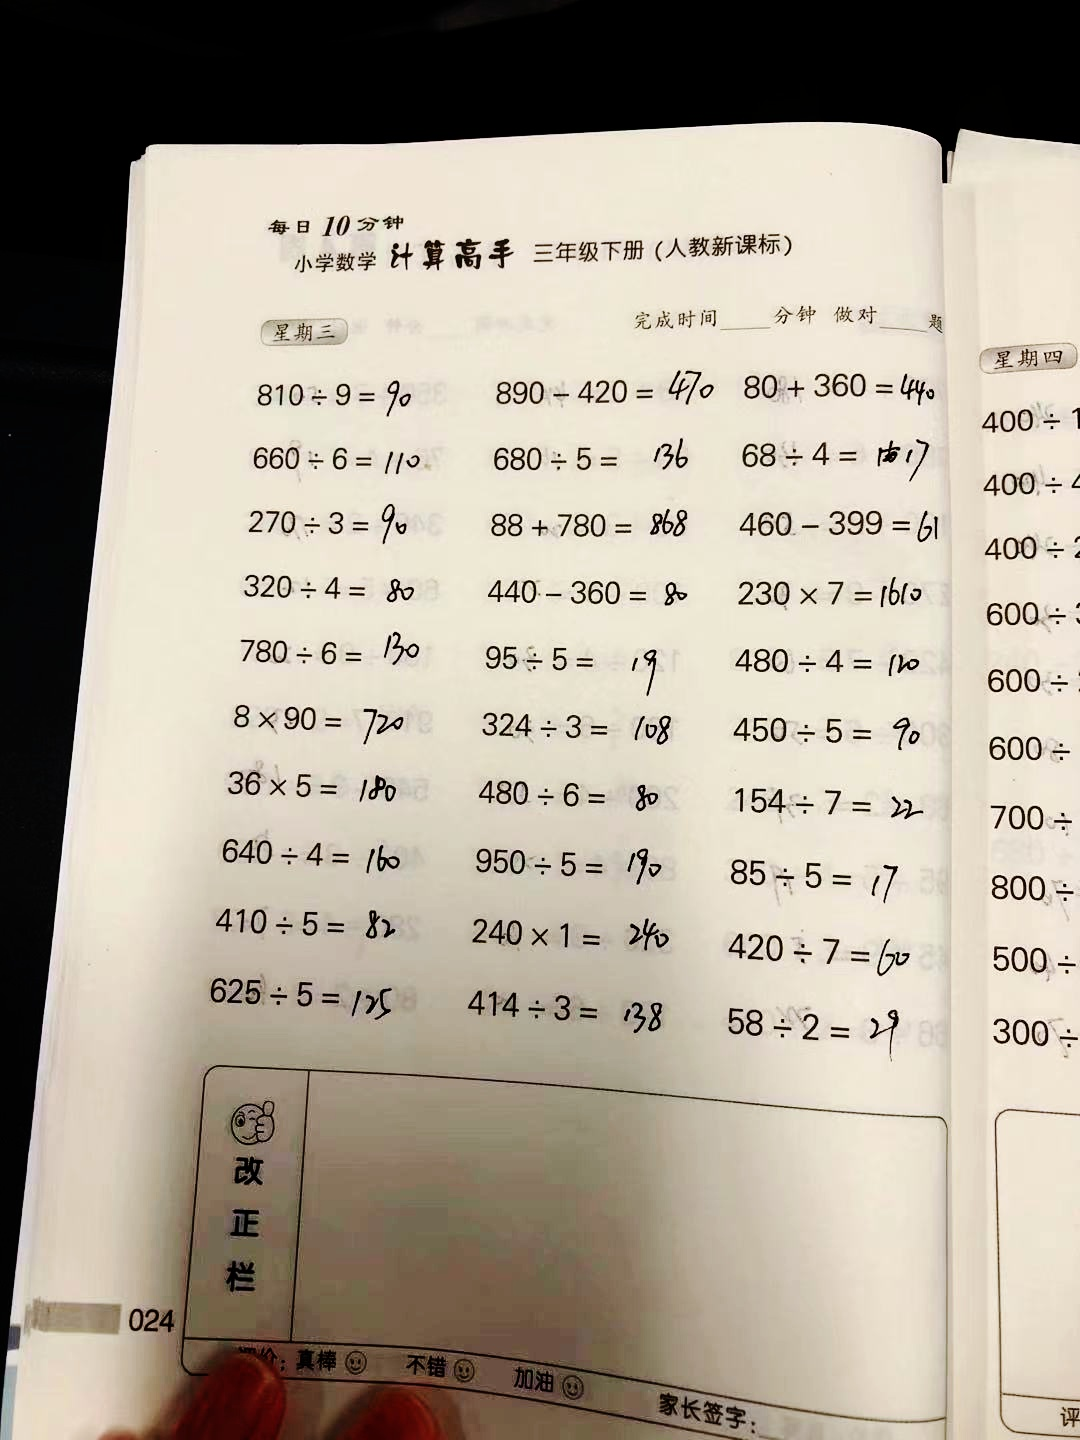equation: (716, 1002, 947, 1062), (469, 635, 708, 692), (479, 433, 722, 488), (457, 985, 676, 1045), (727, 921, 925, 984), (467, 839, 701, 892), (222, 691, 437, 748), (201, 972, 405, 1030), (213, 761, 430, 815), (725, 708, 940, 762), (727, 505, 964, 552), (722, 852, 921, 907), (199, 899, 422, 948), (233, 568, 447, 618), (484, 505, 719, 550), (728, 783, 942, 833), (196, 833, 419, 881), (222, 624, 434, 674), (465, 708, 690, 753), (741, 432, 950, 481), (471, 912, 684, 959), (728, 573, 950, 618), (481, 575, 712, 618), (244, 438, 441, 488), (247, 372, 444, 422), (734, 641, 944, 687), (733, 365, 944, 410), (484, 369, 724, 408), (239, 502, 431, 550), (467, 779, 691, 818)
